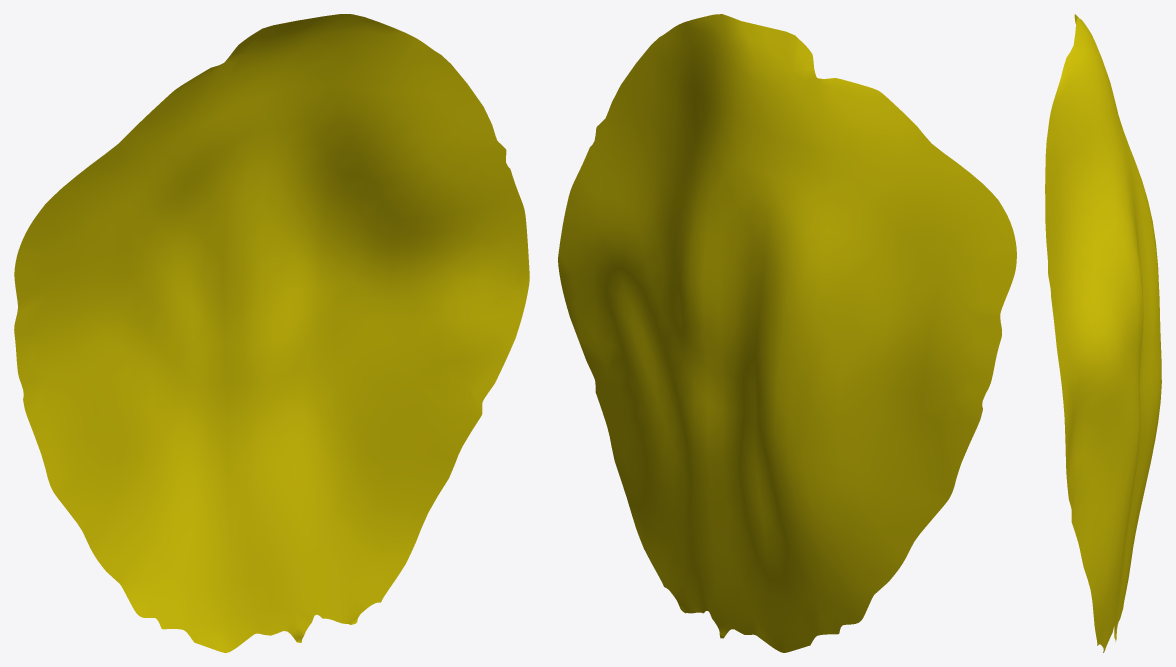
The model's file is petal2.glb.
3 views of the same model, side by side, from view 1: azimuth 30°, elevation 25°; view 2: azimuth 150°, elevation 25°; view 3: azimuth 270°, elevation 25° (orthographic). The views are drawn at different scales.
Visible parts, largest first — view 1: extrusion_6; view 2: extrusion_6; view 3: extrusion_6.
Boxes of the visible parts, bbox=[...] form: extrusion_6: bbox=[14, 14, 529, 652]; extrusion_6: bbox=[558, 14, 1016, 652]; extrusion_6: bbox=[1045, 14, 1161, 652].
Size of the model in its own units: 0.2888 by 0.3545 by 0.0626.
